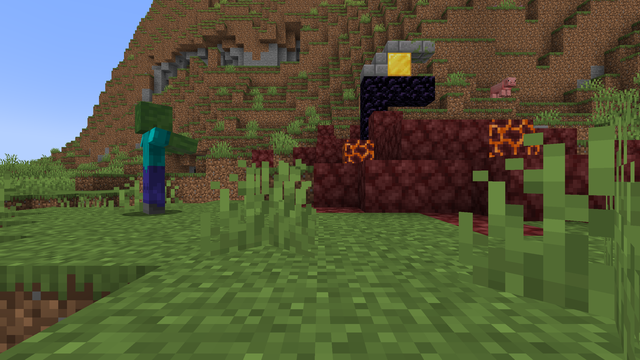cochons: (489, 81, 512, 97)
zombies: (125, 104, 177, 213)
